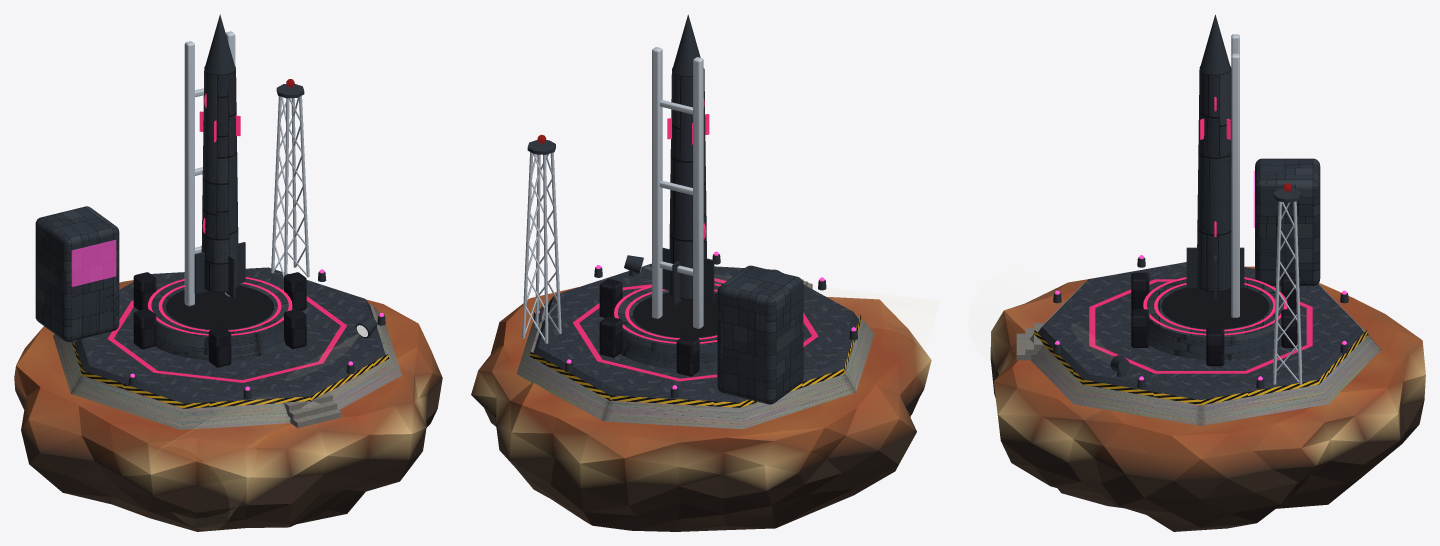
The model's file is hypersonic-L50.glb.
The picture shows the model from 3 angles, left to right: view 1: azimuth 30°, elevation 25°; view 2: azimuth 150°, elevation 25°; view 3: azimuth 270°, elevation 25°; orthographic projection. The views are drawn at different scales.
Parts seen in each view (by area): view 1: object 1, object 4, object 37, anim:missile, object 2, object 25, object 26, anim:erector, object 3, object 38, object 5, object 31 (+6 smaller); view 2: object 1, object 4, object 37, object 2, anim:missile, anim:erector, object 25, object 26, object 3, object 5, object 33, object 34 (+1 smaller); view 3: object 1, object 4, anim:missile, object 2, object 37, object 25, object 26, anim:erector, object 3, object 5, object 29, object 30 (+4 smaller).
Part boxes in pixels (left/top/right/bottom): object 1: left=14, top=280, right=442, bottom=531; object 4: left=74, top=267, right=385, bottom=403; object 37: left=35, top=206, right=119, bottom=341; anim:missile: left=194, top=14, right=245, bottom=298; object 2: left=53, top=303, right=401, bottom=429; object 25: left=146, top=279, right=293, bottom=360; object 26: left=166, top=285, right=274, bottom=329; anim:erector: left=184, top=31, right=235, bottom=306; object 3: left=72, top=342, right=389, bottom=408; object 38: left=71, top=240, right=116, bottom=286; object 5: left=107, top=289, right=346, bottom=382; object 31: left=208, top=327, right=231, bottom=367; object 1: left=471, top=287, right=931, bottom=531; object 4: left=533, top=263, right=858, bottom=402; object 37: left=717, top=265, right=803, bottom=404; object 2: left=516, top=300, right=874, bottom=428; anim:missile: left=662, top=14, right=714, bottom=305; anim:erector: left=652, top=47, right=703, bottom=328; object 25: left=612, top=285, right=719, bottom=368; object 26: left=632, top=292, right=717, bottom=337; object 3: left=529, top=314, right=861, bottom=407; object 5: left=572, top=278, right=818, bottom=381; object 33: left=676, top=335, right=699, bottom=376; object 34: left=599, top=316, right=622, bottom=357; object 1: left=990, top=266, right=1425, bottom=531; object 4: left=1037, top=262, right=1364, bottom=399; anim:missile: left=1186, top=14, right=1244, bottom=299; object 2: left=1030, top=284, right=1380, bottom=425; object 37: left=1255, top=158, right=1320, bottom=285; object 25: left=1141, top=279, right=1288, bottom=359; object 26: left=1161, top=287, right=1269, bottom=329; anim:erector: left=1231, top=34, right=1239, bottom=317; object 3: left=1033, top=330, right=1368, bottom=405; object 5: left=1089, top=279, right=1312, bottom=373; object 29: left=1206, top=327, right=1224, bottom=366; object 30: left=1131, top=309, right=1149, bottom=347.
Bounding box in the file's own units: 6.28 × 6.95 × 6.34.
16 materials, 5 textured.
